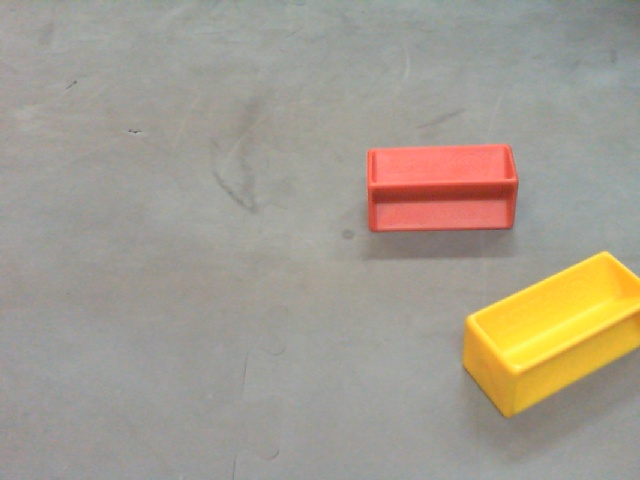RedSample: (364, 142, 520, 234)
YellowSample: (460, 248, 640, 416)
